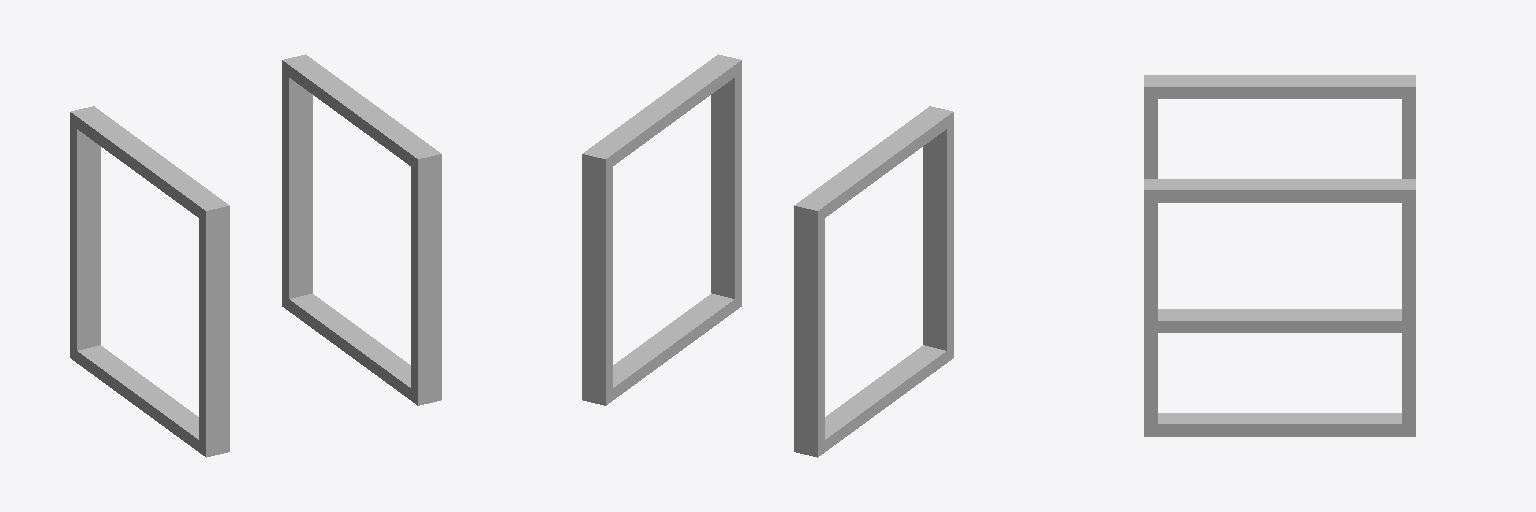
File: windowtwowayx.obj
The picture shows the model from 3 angles: view 1: azimuth 30°, elevation 25°; view 2: azimuth 150°, elevation 25°; view 3: azimuth 270°, elevation 25°; orthographic projection.
Visible parts, largest first — view 1: bedx+.042; view 2: bedx+.042; view 3: bedx+.042.
Part boxes in pixels (left/top/right/bottom): bedx+.042: left=70, top=54, right=441, bottom=457; bedx+.042: left=582, top=54, right=953, bottom=457; bedx+.042: left=1144, top=75, right=1415, bottom=436.
Size of the model in its own units: 1 by 1 by 1.